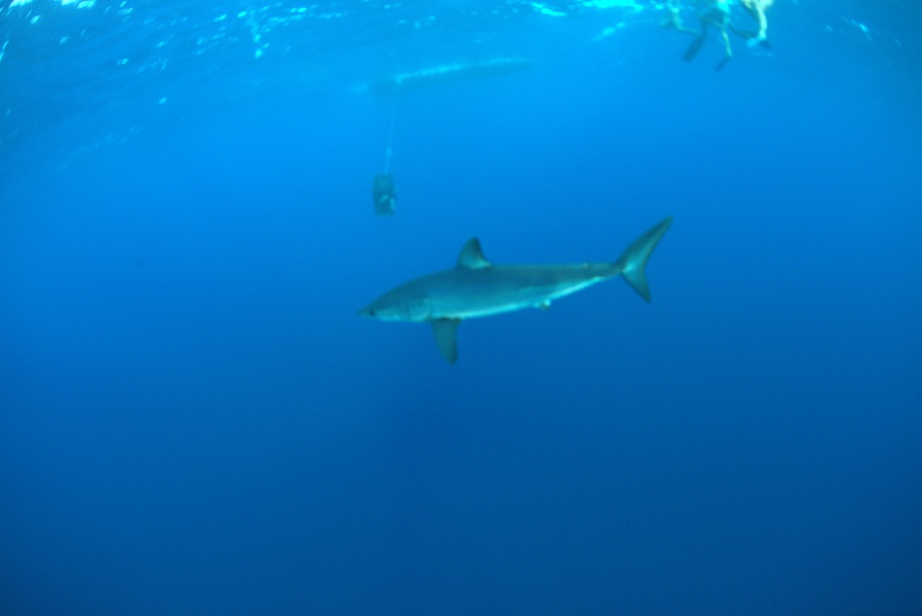Mako: (336, 209, 694, 377)
